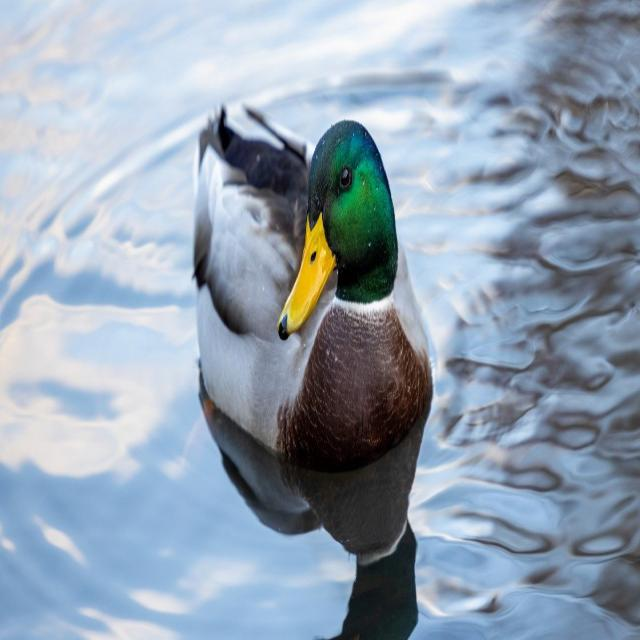Duck: (190, 80, 436, 566)
